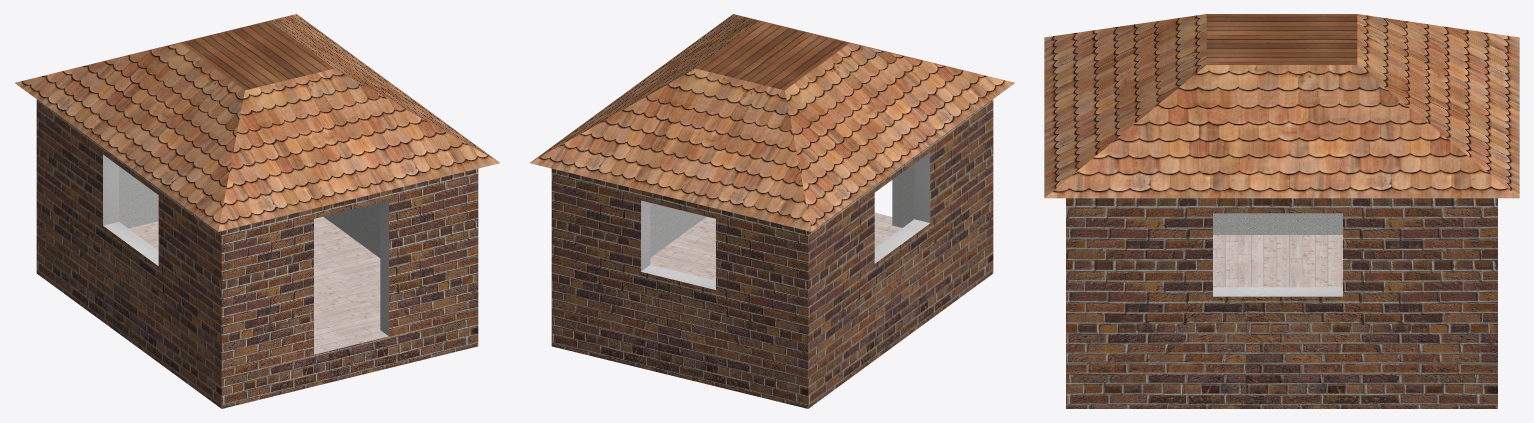
Rendered from house.fbx.
3 renders of one model, left to right at view 1: azimuth 30°, elevation 25°; view 2: azimuth 150°, elevation 25°; view 3: azimuth 270°, elevation 25°, orthographic. The views are drawn at different scales.
Visible parts, largest first — view 1: Куб; view 2: Куб; view 3: Куб.
Boxes of the visible parts, x1,y1,x2,y2 form: Куб: [15, 14, 499, 408]; Куб: [530, 14, 1014, 408]; Куб: [1044, 14, 1519, 408].
Bounding box in the file's own units: 880 × 757 × 1100.
1 material, 1 textured.
